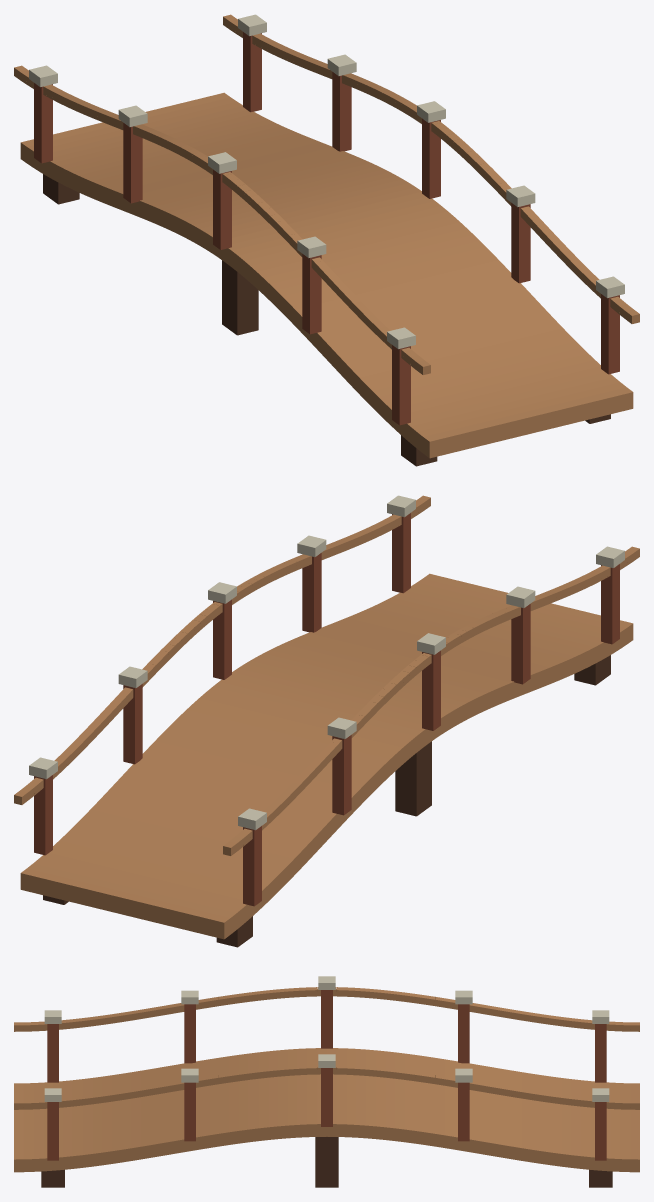
File: Backyard_StreamBridge_Simple.glb
The picture shows the model from 3 angles, top to bottom: view 1: azimuth 30°, elevation 25°; view 2: azimuth 150°, elevation 25°; view 3: azimuth 270°, elevation 25°; orthographic projection. The views are drawn at different scales.
Parts seen in each view (by area): view 1: Backyard_StreamBridge_Simple; view 2: Backyard_StreamBridge_Simple; view 3: Backyard_StreamBridge_Simple.
Boxes of the visible parts, x1,y1,x2,y2 form: Backyard_StreamBridge_Simple: (14, 14, 639, 466); Backyard_StreamBridge_Simple: (14, 495, 639, 947); Backyard_StreamBridge_Simple: (14, 976, 639, 1187).
Size of the model in its own units: 2.56 by 1.87 by 8.
